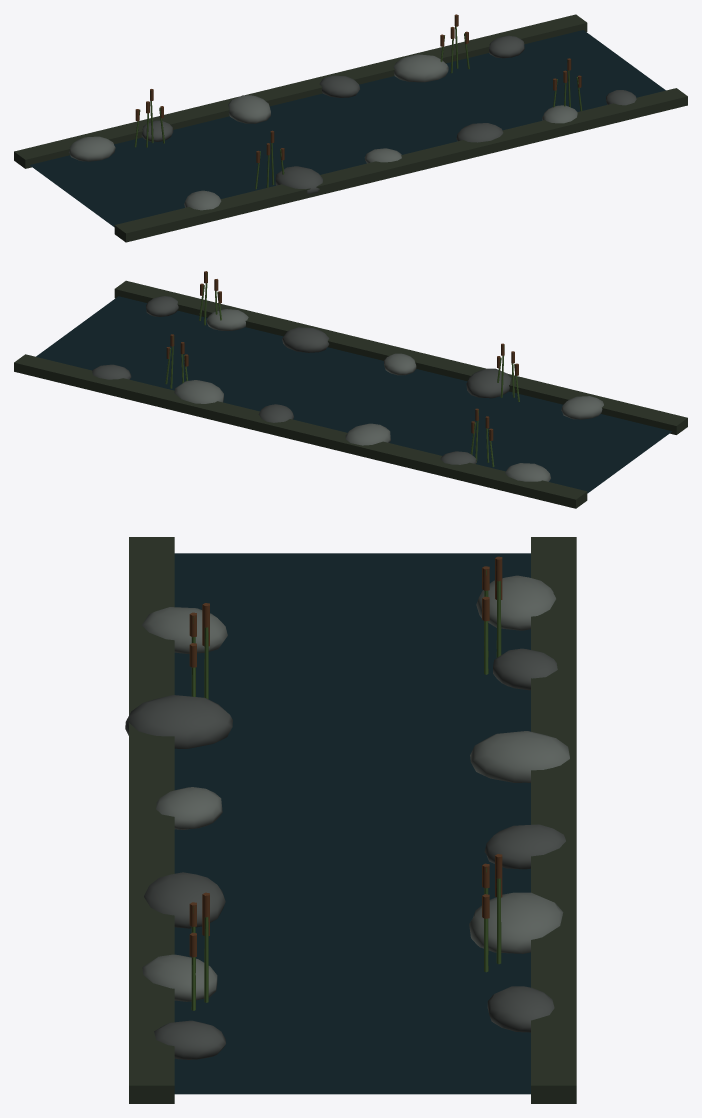
Rendered from canal_stream_bed.glb.
3 renders of one model, top to bottom at view 1: azimuth 30°, elevation 25°; view 2: azimuth 150°, elevation 25°; view 3: azimuth 270°, elevation 25°, orthographic. The views are drawn at different scales.
Visible parts, largest first — view 1: CanalWaterSurface, JapaneseGardenCanal; view 2: CanalWaterSurface, JapaneseGardenCanal; view 3: CanalWaterSurface, JapaneseGardenCanal.
Boxes of the visible parts, x1,y1,x2,y2 form: CanalWaterSurface: (29,30,665,227); JapaneseGardenCanal: (14,14,687,242); CanalWaterSurface: (36,296,671,493); JapaneseGardenCanal: (14,271,687,508); CanalWaterSurface: (174,553,530,1094); JapaneseGardenCanal: (125,537,576,1103).
Size of the model in its own units: 14.2 by 1.5 by 4.94.
